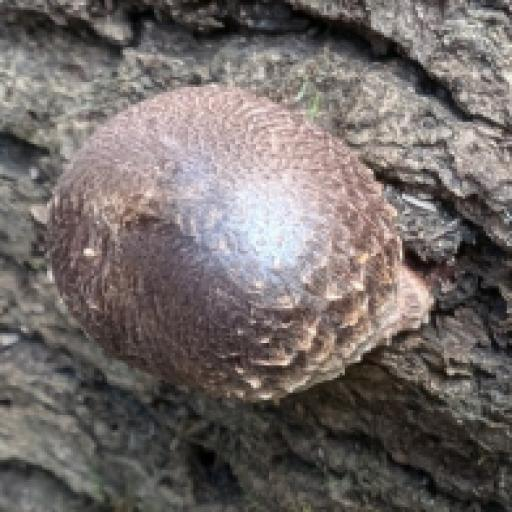Shiitake Mushroom: (13, 50, 471, 457)
